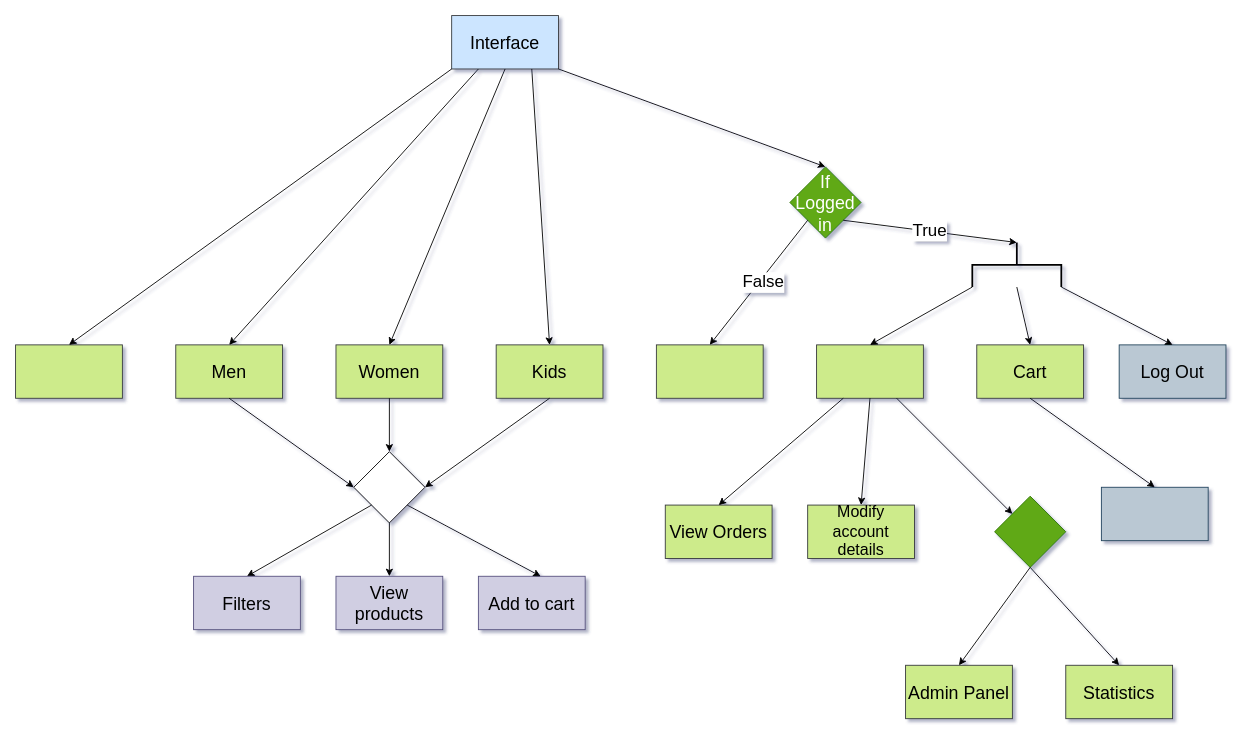
This 1247x740 diagram has some shape labels left out. The centre of each missing label's shape, as x and y in pixels:
"Home" goes at pixel 68 371.
"If Admin" goes at pixel 1030 531.
"Login" goes at pixel 709 371.
"Place Order" goes at pixel 1154 513.
"User Panel" goes at pixel 869 371.
